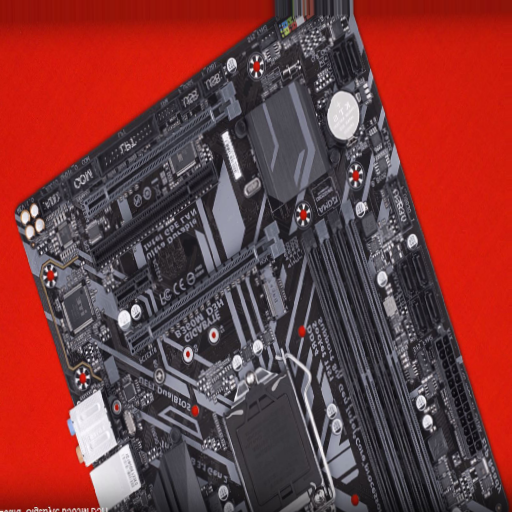CPU: (219, 350, 334, 512)
GPU: (75, 83, 243, 230), (120, 225, 284, 356), (87, 162, 218, 268)
MOTHERBOARD: (13, 6, 512, 511)
RAM: (285, 201, 448, 512)
